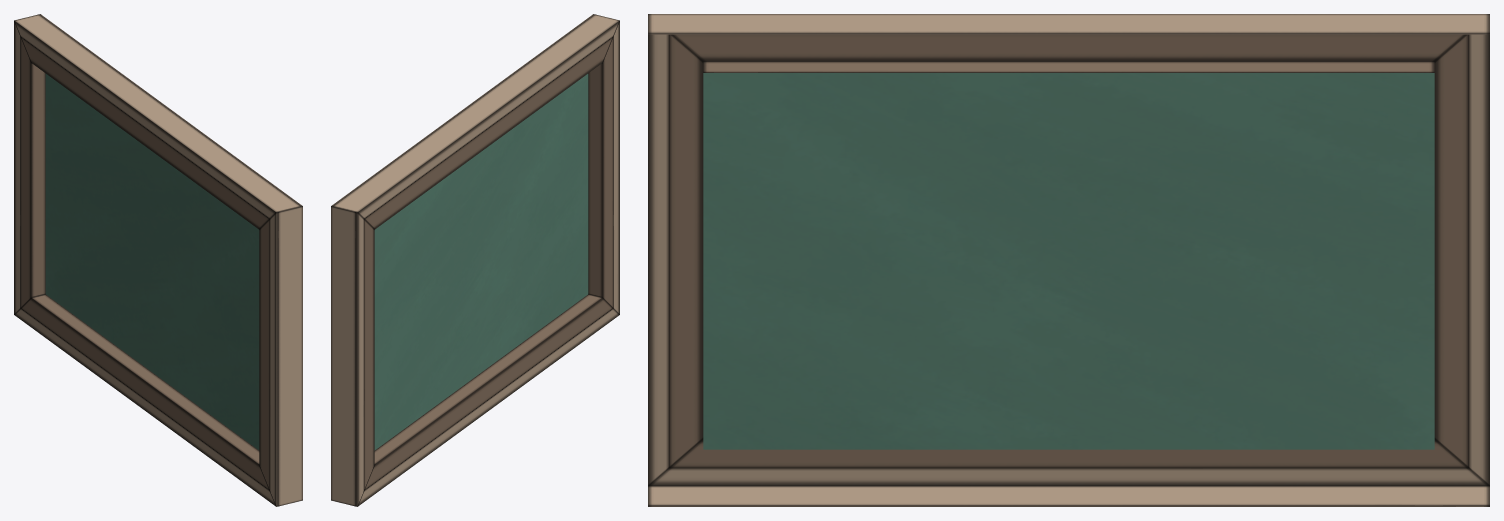
The model's file is noticeBoard3.fbx.
3 views of the same model, side by side, from view 1: azimuth 30°, elevation 25°; view 2: azimuth 150°, elevation 25°; view 3: azimuth 270°, elevation 25° (orthographic). The views are drawn at different scales.
Parts seen in each view (by area): view 1: polySurface188; view 2: polySurface188; view 3: polySurface188.
Part boxes in pixels (box(x1,y1,x2,y2)): polySurface188: box(14, 14, 302, 506); polySurface188: box(331, 14, 619, 506); polySurface188: box(648, 14, 1489, 506).
Size of the model in its own units: 0.1195 by 1.27 by 2.05.
